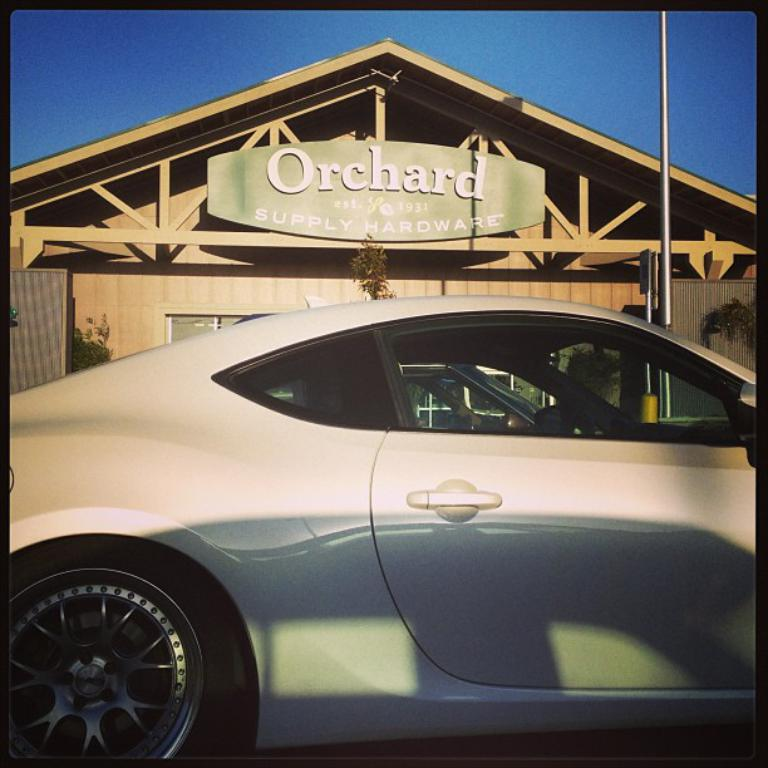Car: (13, 273, 755, 756)
